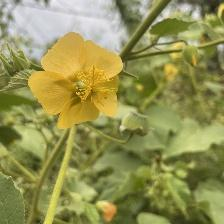indian mallow: (29, 31, 127, 130)
